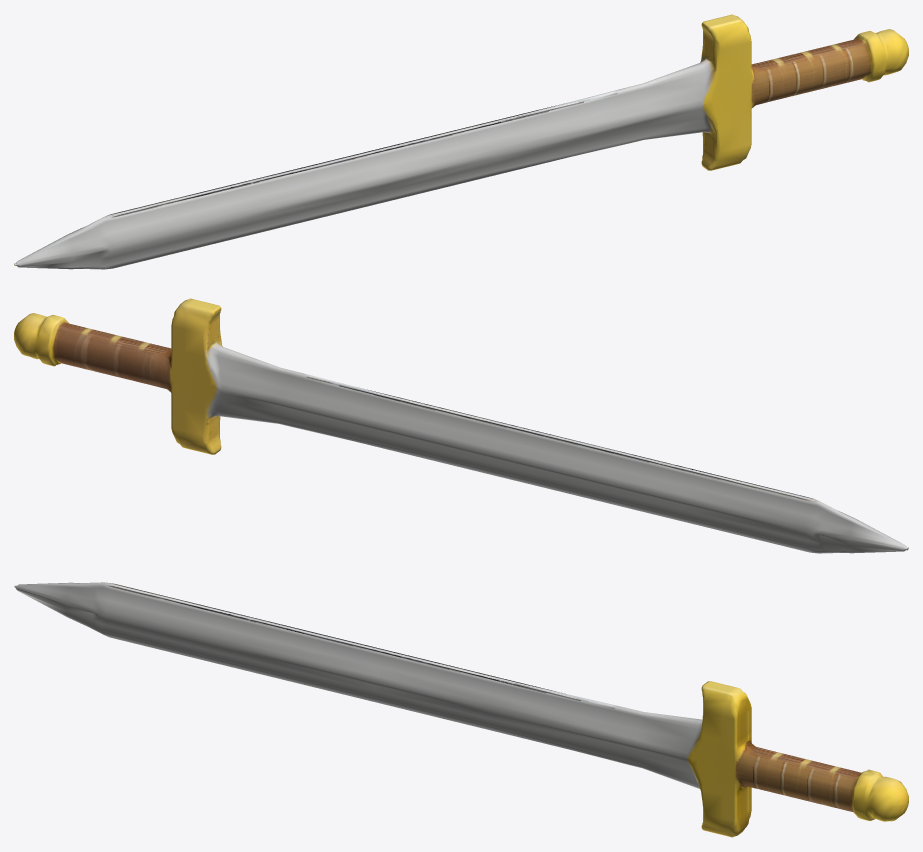
File: Sword.fbx
3 renders of one model, top to bottom at view 1: azimuth 30°, elevation 25°; view 2: azimuth 150°, elevation 25°; view 3: azimuth 330°, elevation 25°, orthographic.
Parts seen in each view (by area): view 1: Mesh_0; view 2: Mesh_0; view 3: Mesh_0.
Boxes of the visible parts, x1,y1,x2,y2 form: Mesh_0: (14,14,908,269); Mesh_0: (14,298,908,553); Mesh_0: (14,582,908,837).
Size of the model in its own units: 649 by 100 by 28.
1 material, 1 textured.
